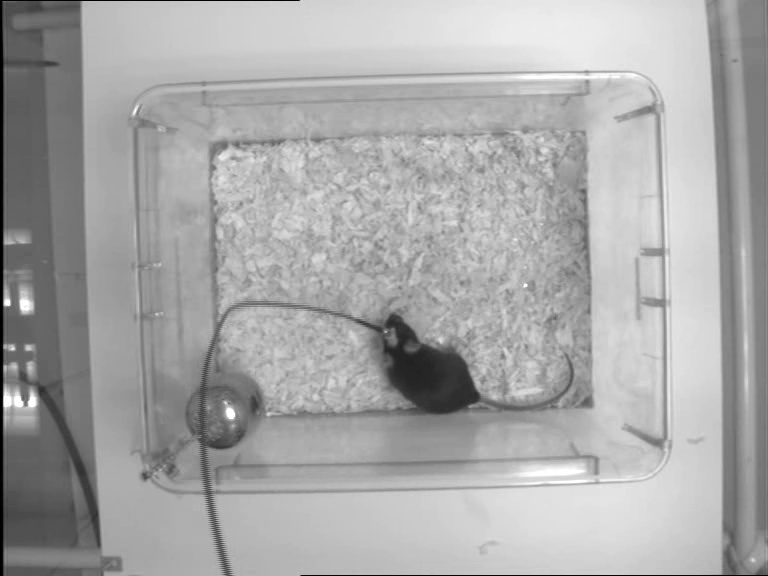mice: (378, 311, 577, 413)
